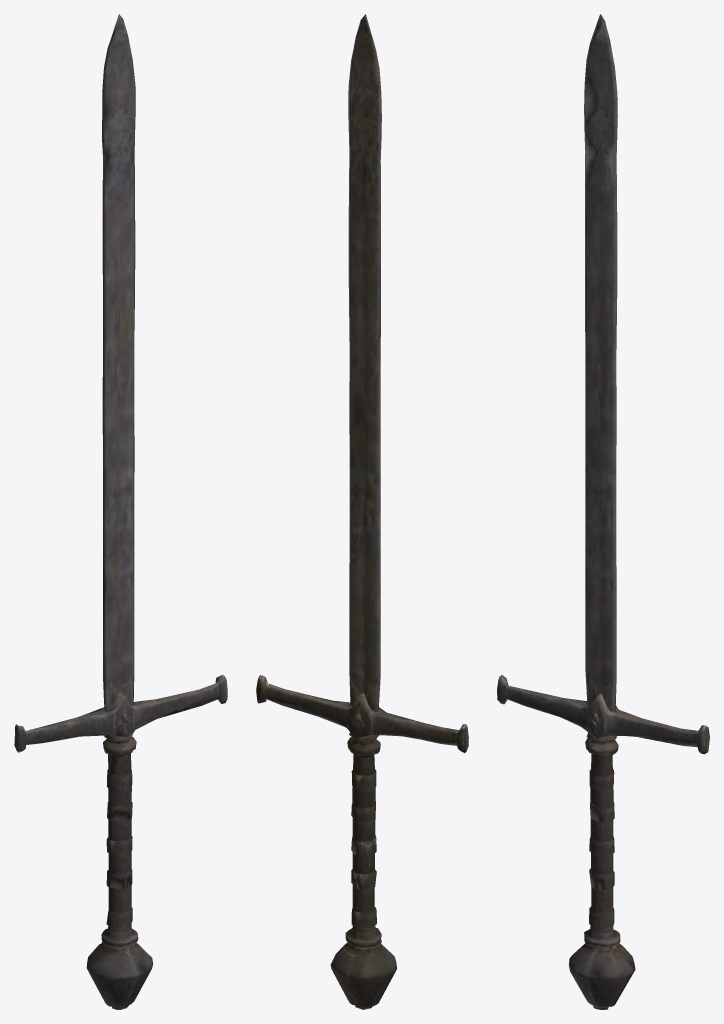
The model's file is w_greatsword.glb.
3 renders of one model, left to right at view 1: azimuth 30°, elevation 25°; view 2: azimuth 150°, elevation 25°; view 3: azimuth 330°, elevation 25°, orthographic.
Visible parts, largest first — view 1: w_greatsword; view 2: w_greatsword; view 3: w_greatsword.
Boxes of the visible parts, x1,y1,x2,y2 form: w_greatsword: [14, 14, 227, 1009]; w_greatsword: [256, 14, 468, 1009]; w_greatsword: [497, 14, 709, 1009].
Bounding box in the file's own units: 0.4282 × 1.94 × 0.118.
Materials: 1 (1 with a texture image).
